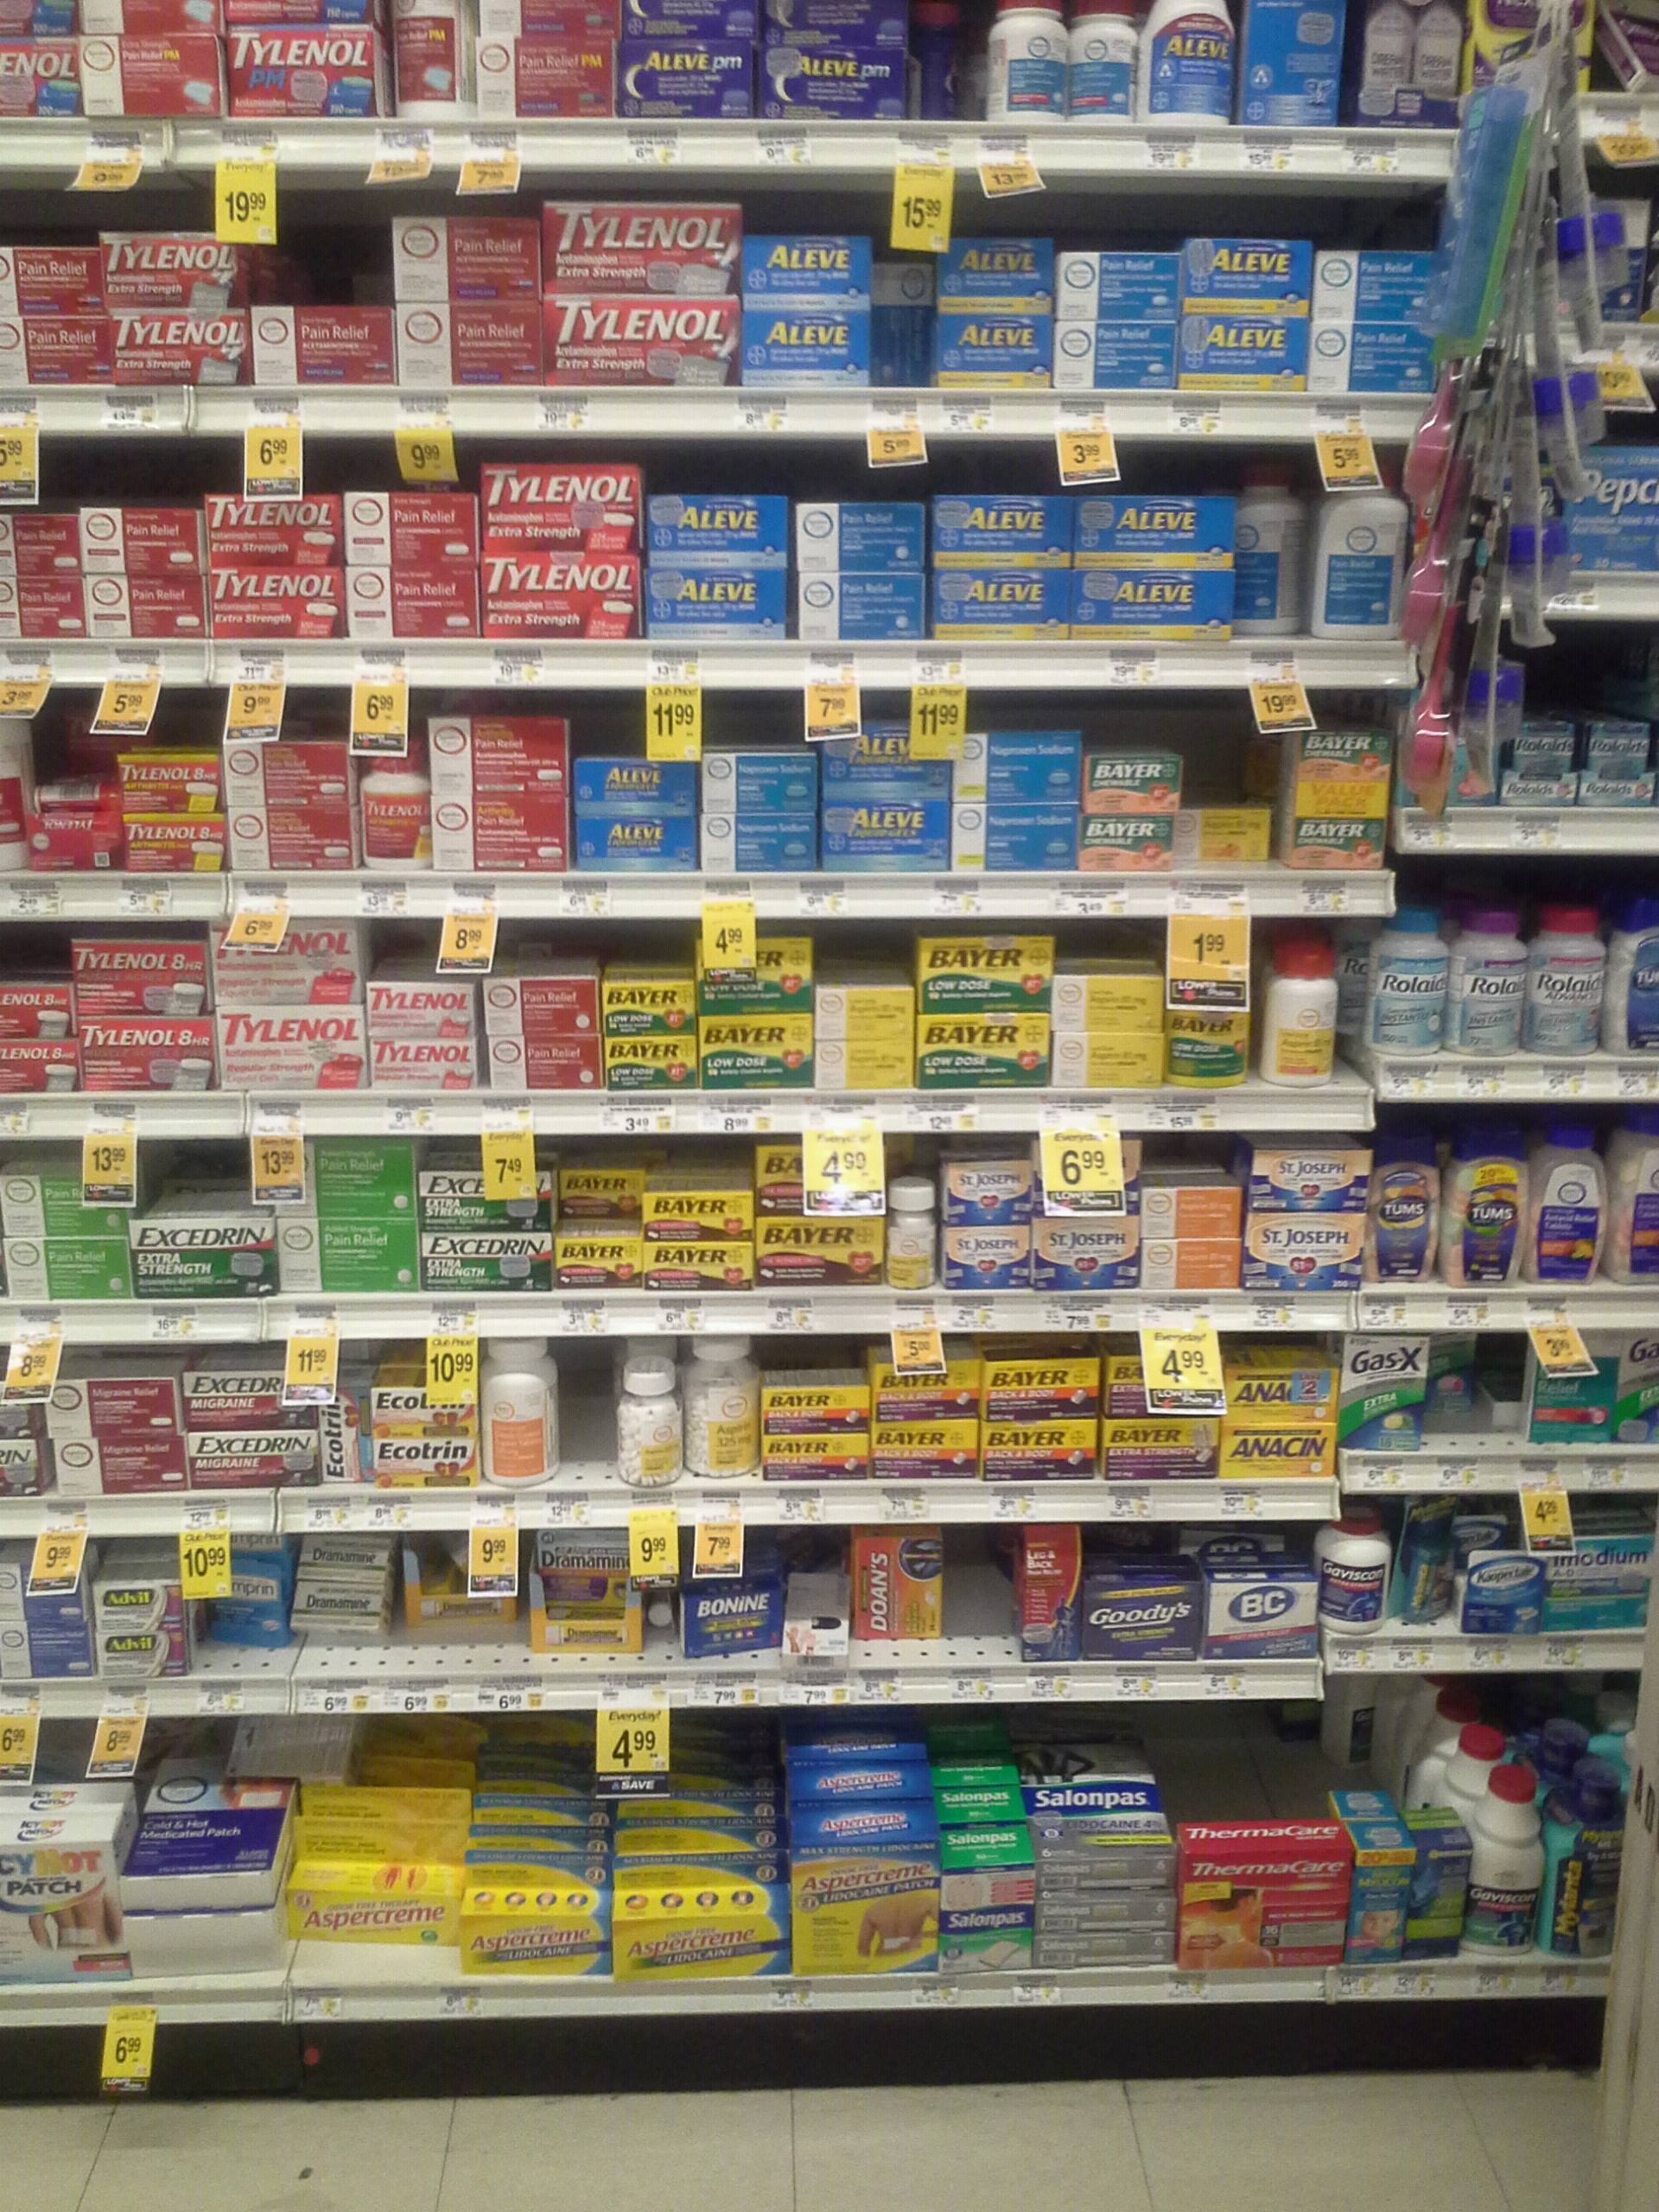Misplacement: (554, 1165, 643, 1282)
